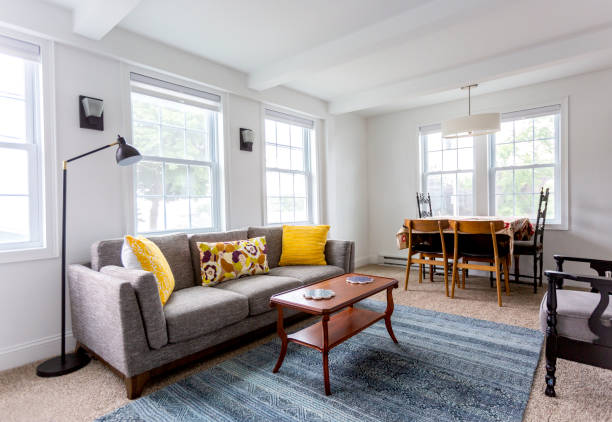chair: (538, 253, 612, 398)
dining table set: (391, 187, 552, 309)
floor lamp: (36, 132, 142, 378)
sofa: (65, 221, 361, 400)
table: (269, 272, 399, 397)
